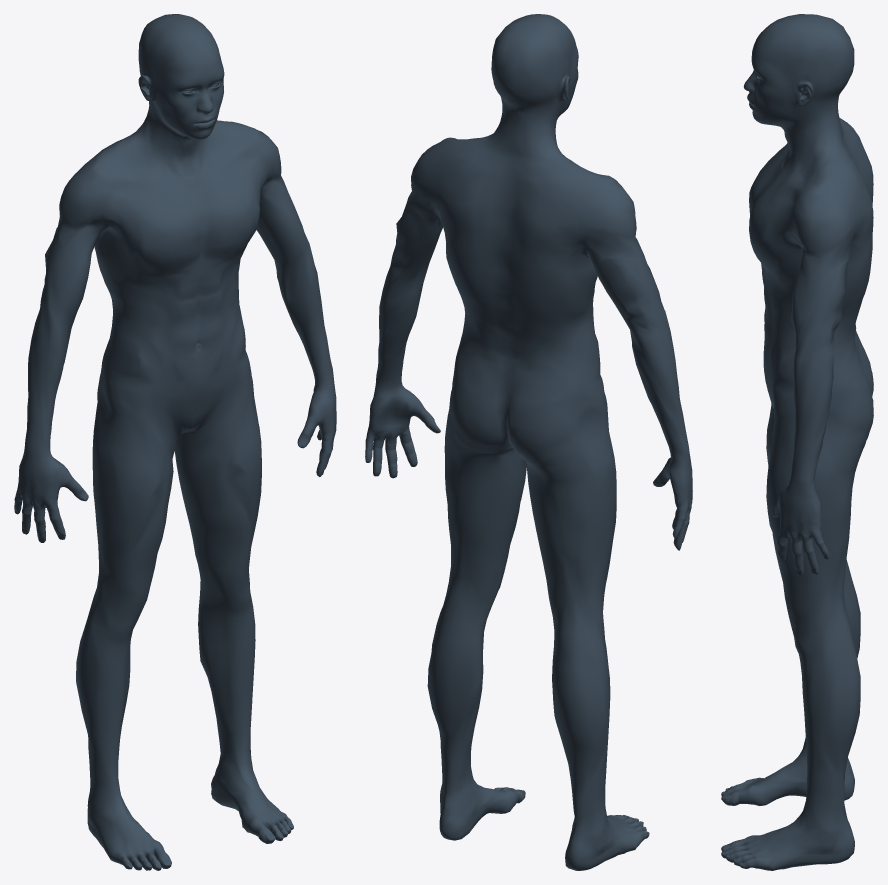
Rendered from twin-anatomy-muscular-candidate.glb.
3 renders of one model, left to right at view 1: azimuth 30°, elevation 25°; view 2: azimuth 150°, elevation 25°; view 3: azimuth 270°, elevation 25°, orthographic.
Visible parts, largest first — view 1: twin-region:legs, twin-region:neutral, twin-region:arms, twin-region:shoulders, twin-region:chest, twin-region:core, twin-region:abs; view 2: twin-region:legs, twin-region:neutral, twin-region:back, twin-region:glutes, twin-region:arms, twin-region:shoulders, twin-region:core; view 3: twin-region:neutral, twin-region:legs, twin-region:arms, twin-region:shoulders, twin-region:back, twin-region:glutes, twin-region:core, twin-region:chest, twin-region:abs.
Boxes of the visible parts, bbox=[...] form: twin-region:legs: bbox=[76, 382, 261, 796]; twin-region:neutral: bbox=[14, 14, 336, 870]; twin-region:arms: bbox=[25, 193, 332, 448]; twin-region:shoulders: bbox=[55, 122, 288, 255]; twin-region:chest: bbox=[109, 177, 259, 283]; twin-region:core: bbox=[99, 252, 245, 389]; twin-region:abs: bbox=[159, 262, 232, 383]; twin-region:legs: bbox=[427, 411, 616, 825]; twin-region:neutral: bbox=[365, 14, 692, 870]; twin-region:back: bbox=[433, 149, 590, 382]; twin-region:glutes: bbox=[444, 349, 592, 491]; twin-region:arms: bbox=[375, 204, 689, 462]; twin-region:shoulders: bbox=[406, 137, 643, 276]; twin-region:core: bbox=[573, 275, 600, 386]; twin-region:neutral: bbox=[721, 14, 857, 870]; twin-region:legs: bbox=[766, 403, 860, 820]; twin-region:arms: bbox=[791, 263, 846, 489]; twin-region:shoulders: bbox=[759, 143, 860, 276]; twin-region:back: bbox=[833, 129, 873, 376]; twin-region:glutes: bbox=[825, 334, 873, 484]; twin-region:core: bbox=[765, 271, 795, 389]; twin-region:chest: bbox=[749, 155, 801, 284]; twin-region:abs: bbox=[761, 263, 773, 374].
Size of the model in its own units: 0.7525 by 1.85 by 0.3151.
